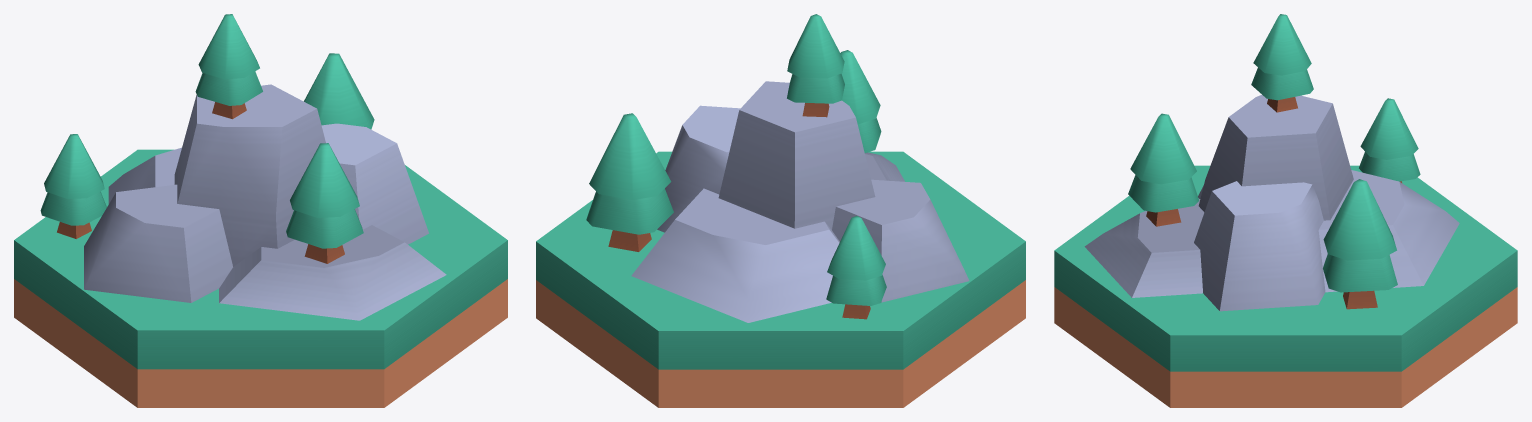
Rendered from grass-hill.gltf.
The picture shows the model from 3 angles, left to right: view 1: azimuth 30°, elevation 25°; view 2: azimuth 150°, elevation 25°; view 3: azimuth 270°, elevation 25°; orthographic projection. The views are drawn at different scales.
Visible parts, largest first — view 1: grass_hill; view 2: grass_hill; view 3: grass_hill.
Part boxes in pixels (x1,y1,x2,y2): grass_hill: (14, 14, 507, 407); grass_hill: (536, 14, 1025, 407); grass_hill: (1054, 14, 1517, 407).
Bounding box in the file's own units: 1 × 0.8032 × 1.15.
1 material, 1 textured.
